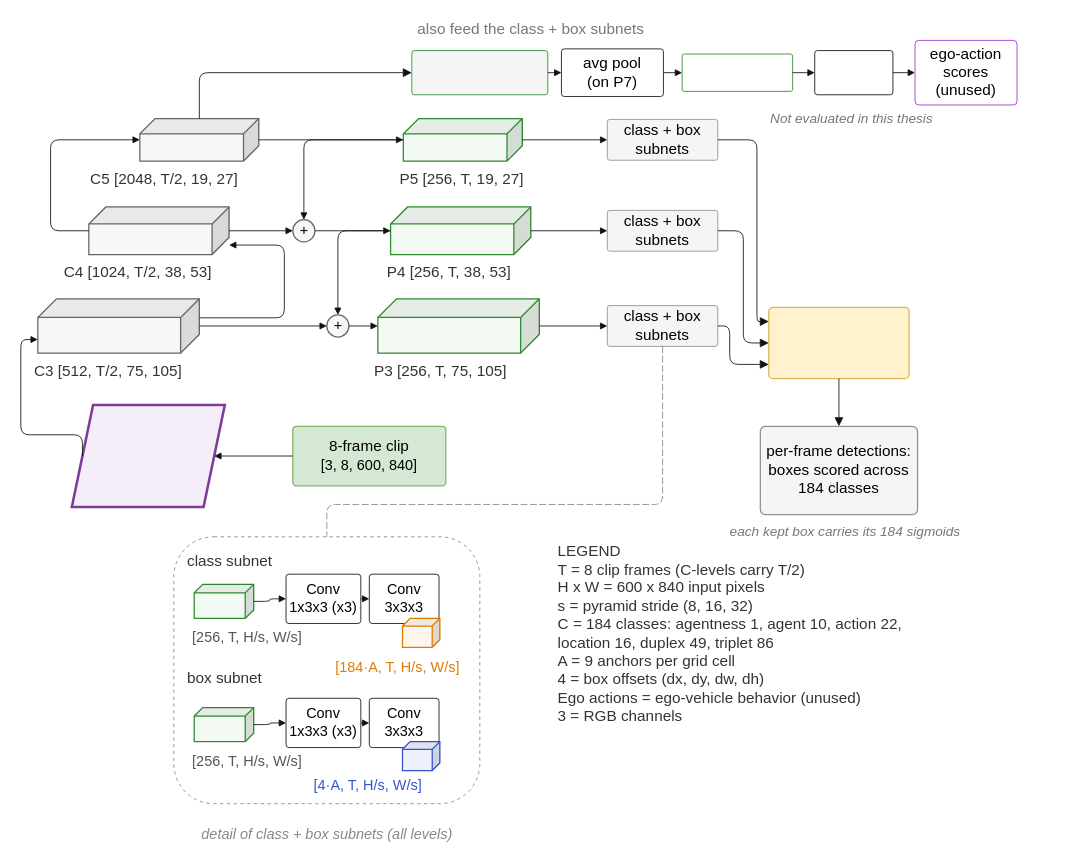
This 1073x858 diagram has some shape labels left out. The centre of each missing label's shape, as x and y in pixels:
"[256, T, 1, 1]" belongs at point 737,72.
"Conv 3x1x1" belongs at point 853,72.
"decode + NMS: A x (184 + 4) scores per cell, all levels" belongs at point 838,342.
"P6 = conv(C5) P7 = conv(P6)" belongs at point 479,72.
"ResNet50-I3D backbone" belongs at point 148,455.
